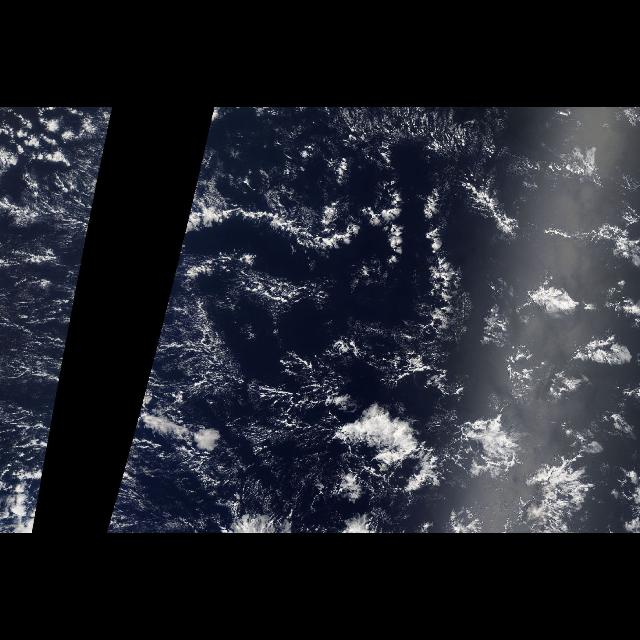Fish: (178, 186, 486, 258), (17, 187, 97, 245)
Flower: (293, 235, 639, 533)
Gravel: (184, 256, 324, 437)
